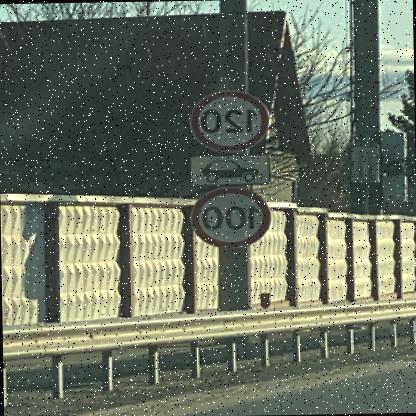speedlimit: (193, 88, 274, 152), (192, 186, 274, 247)
